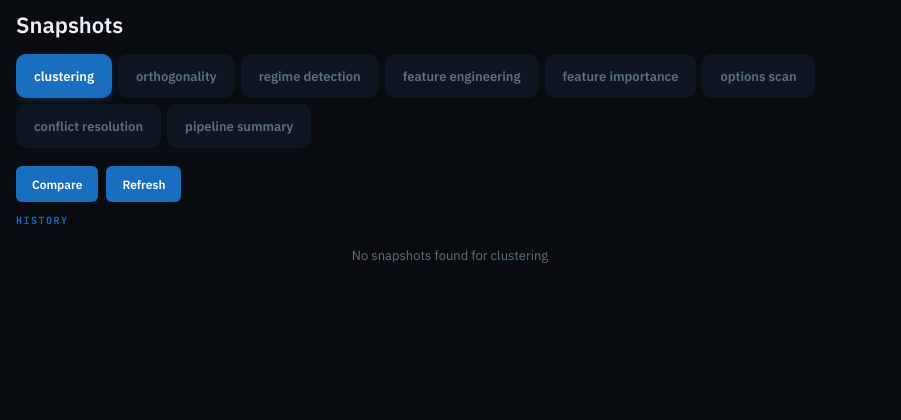
Test: Snapshots list handling per the real API contract › shows category-only wording for the compare 404, not the store's own detail text
This screenshot has width=901, height=420.
Check: the text "No snapshots found for clustering" is shown, box [352, 247, 548, 264]
Click the button "Compare". click: [57, 184]
box: [16, 166, 98, 202]
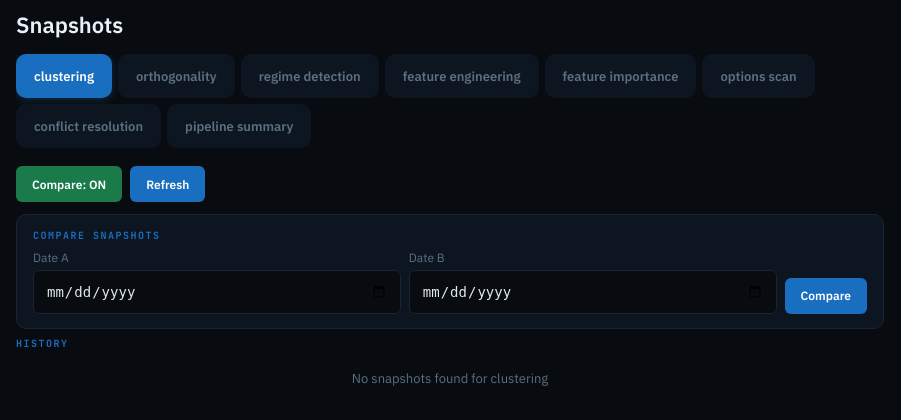
Check: the number of date fields is 2
Type "2026-01-01" into the date field below "Date A". click: [217, 292]
box: [33, 270, 401, 314]
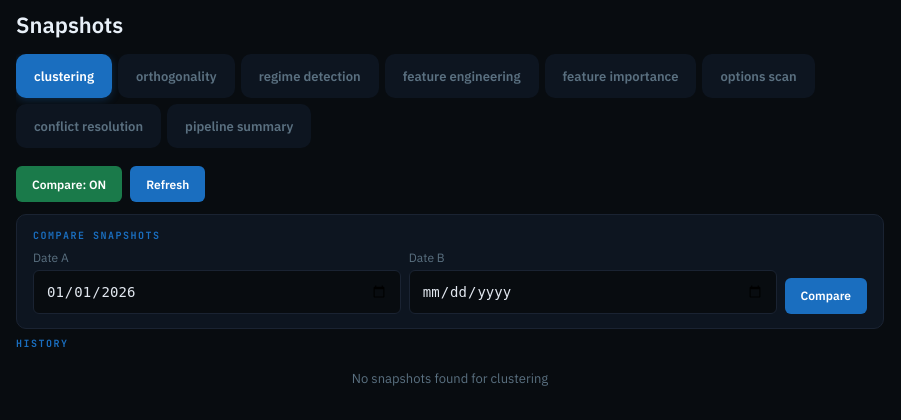
Type "2026-01-08" into the date field below "Date B". click: [593, 292]
box: [409, 270, 777, 314]
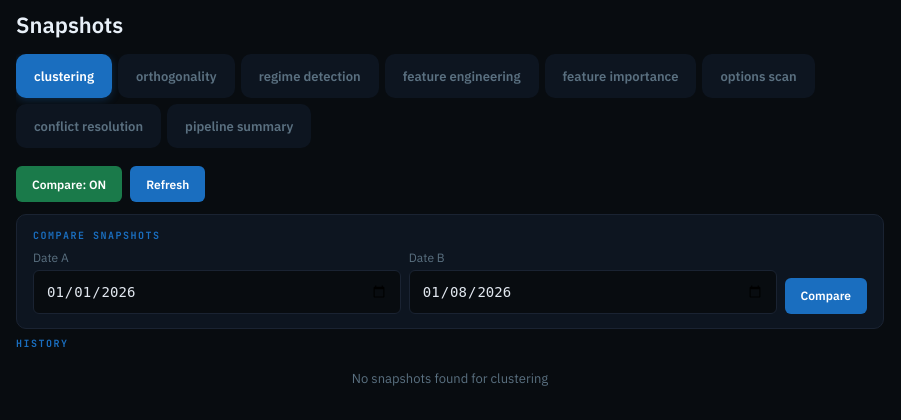
Click the button "Compare". click: [826, 296]
box: [785, 278, 867, 314]
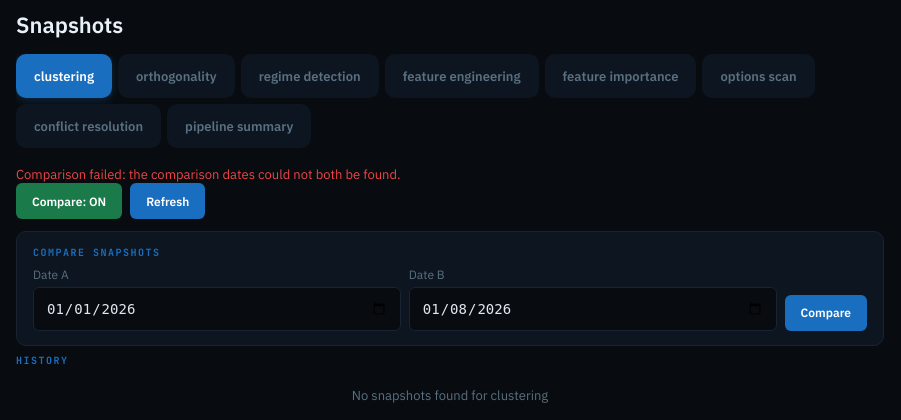
Check: the text "Comparison failed: the comparison dates could not both be found." is shown, box [16, 166, 400, 183]
